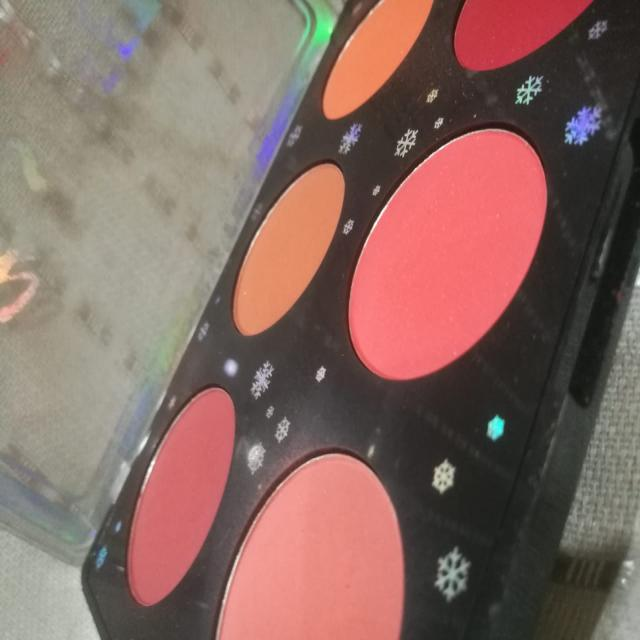blush: (343, 110, 554, 394), (208, 434, 417, 640), (110, 367, 244, 623), (219, 150, 352, 347), (444, 3, 608, 82)
